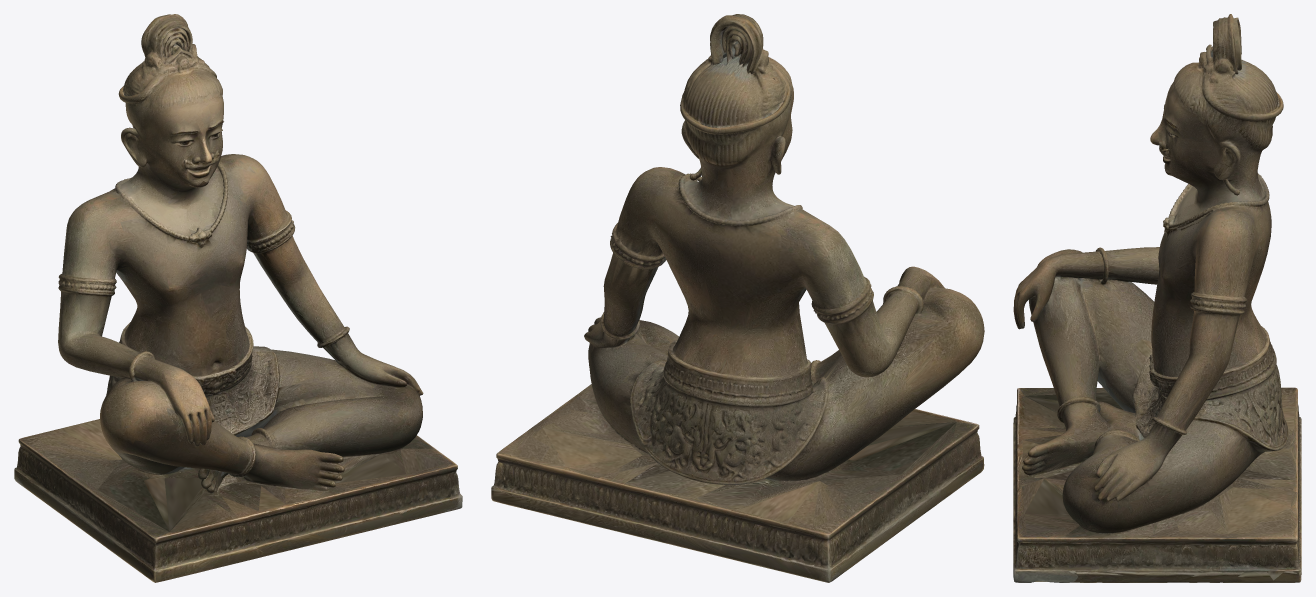
3 views of the same model, side by side, from view 1: azimuth 30°, elevation 25°; view 2: azimuth 150°, elevation 25°; view 3: azimuth 270°, elevation 25° (orthographic). The views are drawn at different scales.
Visible parts, largest first — view 1: statue-003; view 2: statue-003; view 3: statue-003.
Boxes of the visible parts, box(x1,y1,x2,y2) form: statue-003: box(14, 14, 462, 582); statue-003: box(491, 14, 984, 582); statue-003: box(1013, 14, 1301, 582).
Size of the model in its own units: 0.7588 by 1 by 0.5548.
1 material, 1 textured.
